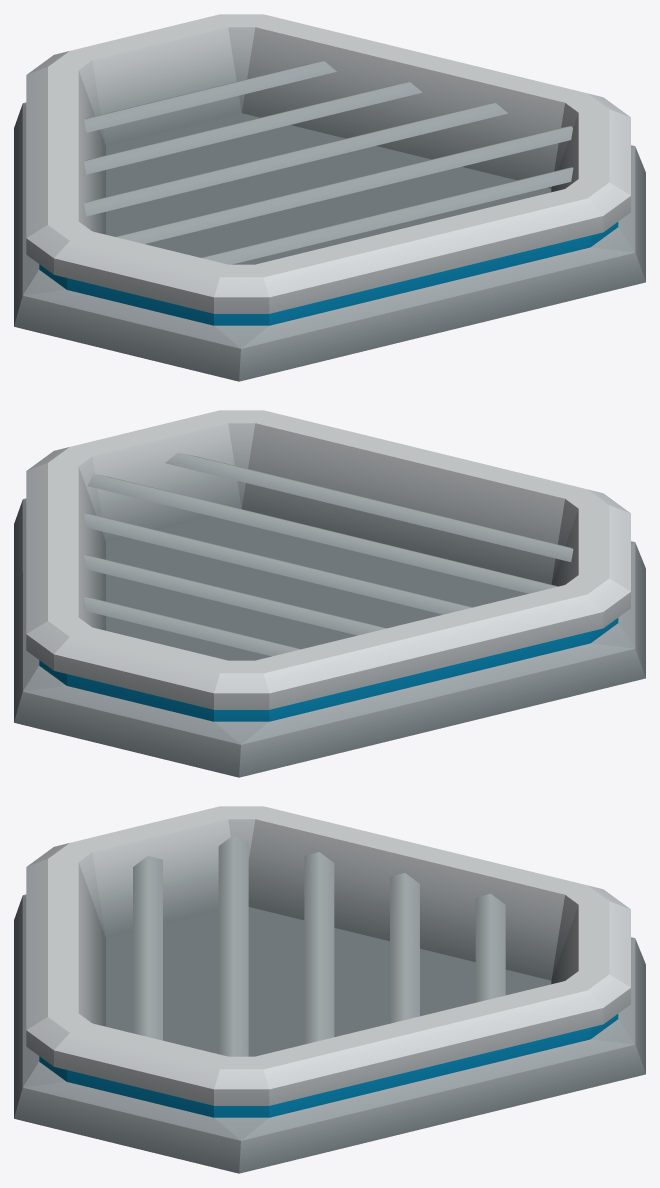
File: Ventilation_004.fbx
The picture shows the model from 3 angles, top to bottom: view 1: azimuth 30°, elevation 25°; view 2: azimuth 150°, elevation 25°; view 3: azimuth 270°, elevation 25°; orthographic projection.
Visible parts, largest first — view 1: Ventilation_004; view 2: Ventilation_004; view 3: Ventilation_004.
Part boxes in pixels (x1,y1,x2,y2): Ventilation_004: [14, 14, 645, 381]; Ventilation_004: [14, 410, 645, 777]; Ventilation_004: [14, 806, 645, 1173].
Bounding box in the file's own units: 147 × 127 × 18.1.
